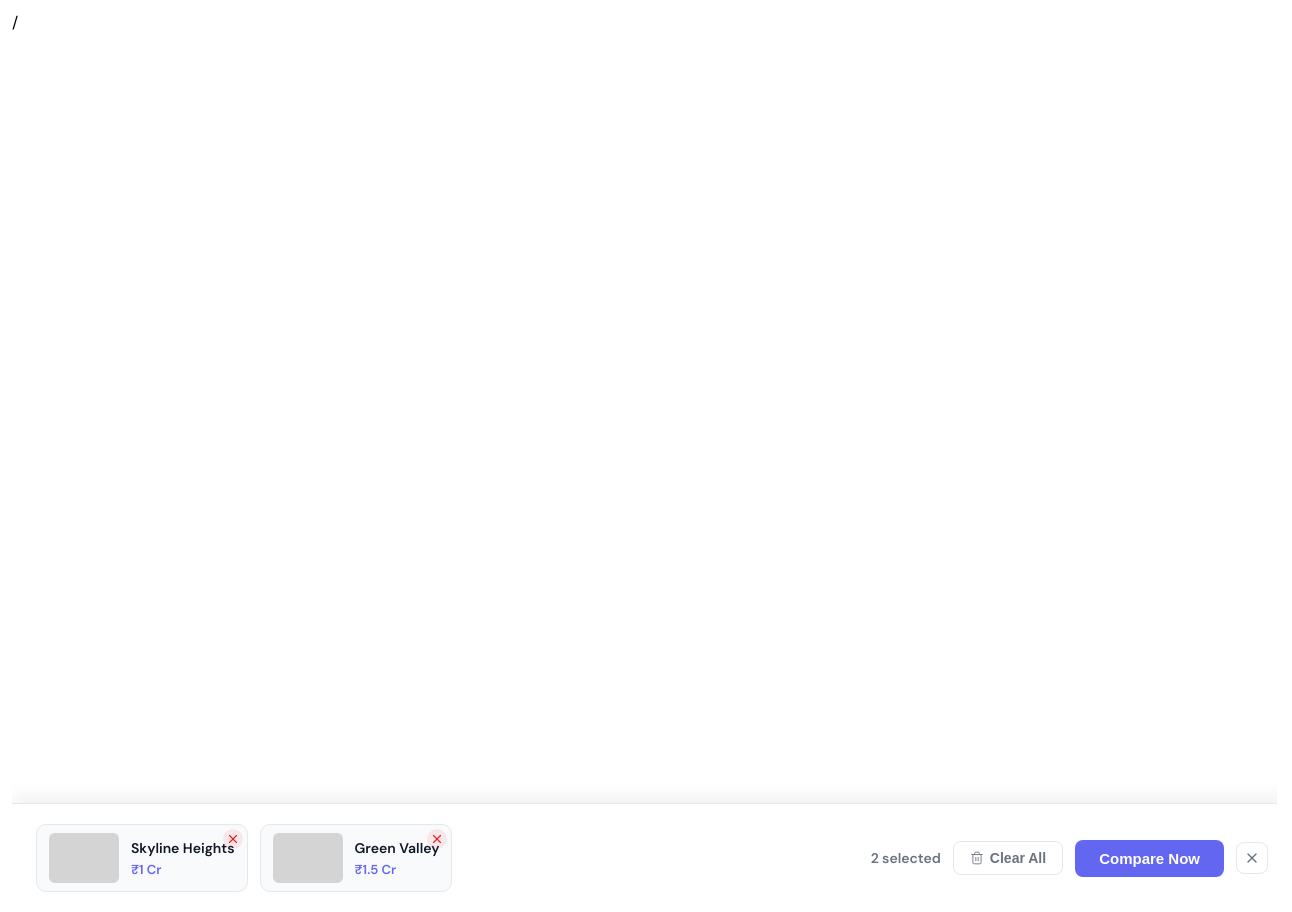
Test: CompareBar › navigates to /compare on Compare Now and closes itself
Click the button "Compare Now". click: (1150, 858)
box: 1075,840 -> 1224,876
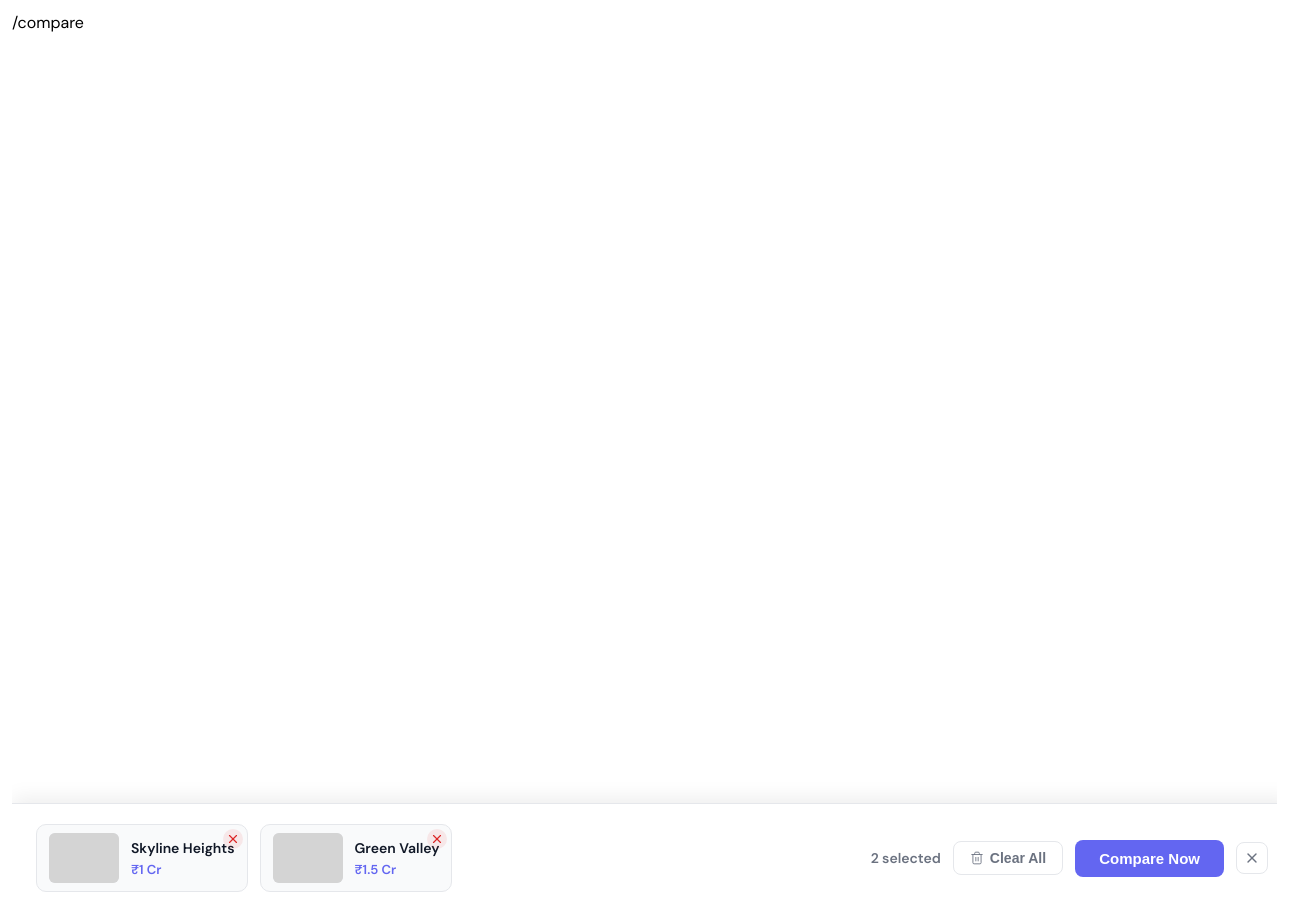
Check: the text with test id "location" reads "/compare", box 12,12 -> 84,33
